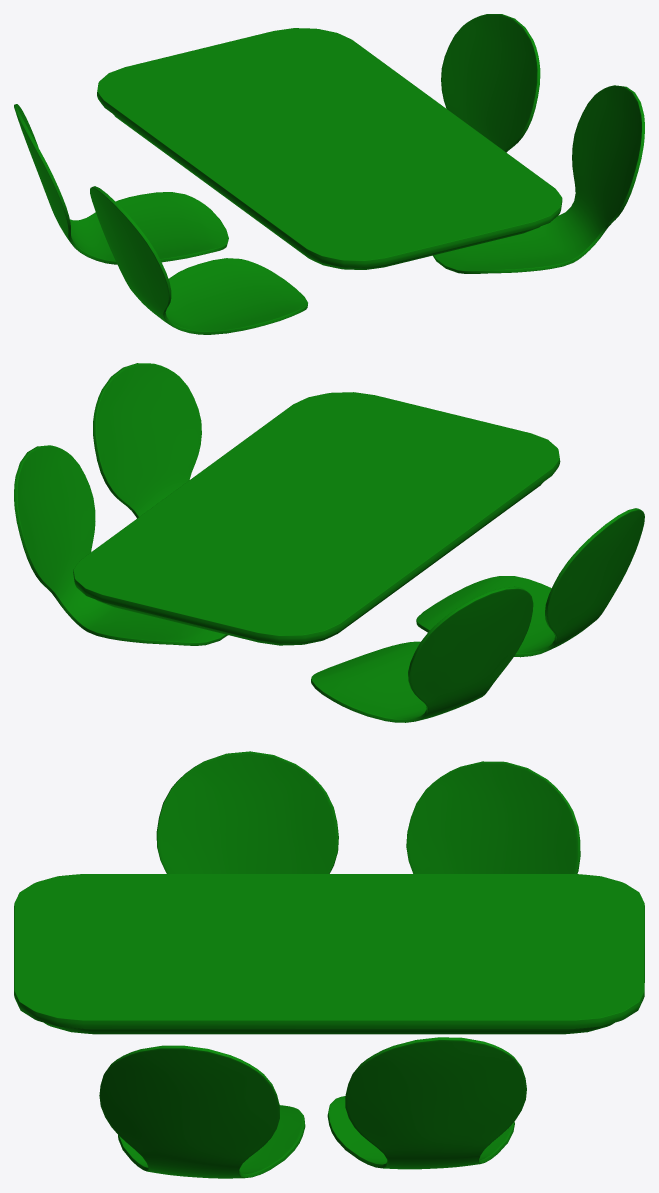
The model's file is TableChairs.FBX.
The picture shows the model from 3 angles, top to bottom: view 1: azimuth 30°, elevation 25°; view 2: azimuth 150°, elevation 25°; view 3: azimuth 270°, elevation 25°; orthographic projection. The views are drawn at different scales.
Visible parts, largest first — view 1: Cadeira_Mesa_Plastic; view 2: Cadeira_Mesa_Plastic; view 3: Cadeira_Mesa_Plastic.
Part boxes in pixels (x1,y1,x2,y2): Cadeira_Mesa_Plastic: [14, 14, 644, 334]; Cadeira_Mesa_Plastic: [14, 363, 644, 722]; Cadeira_Mesa_Plastic: [14, 751, 644, 1178].
Bounding box in the file's own units: 1.67 × 0.4432 × 1.5.
